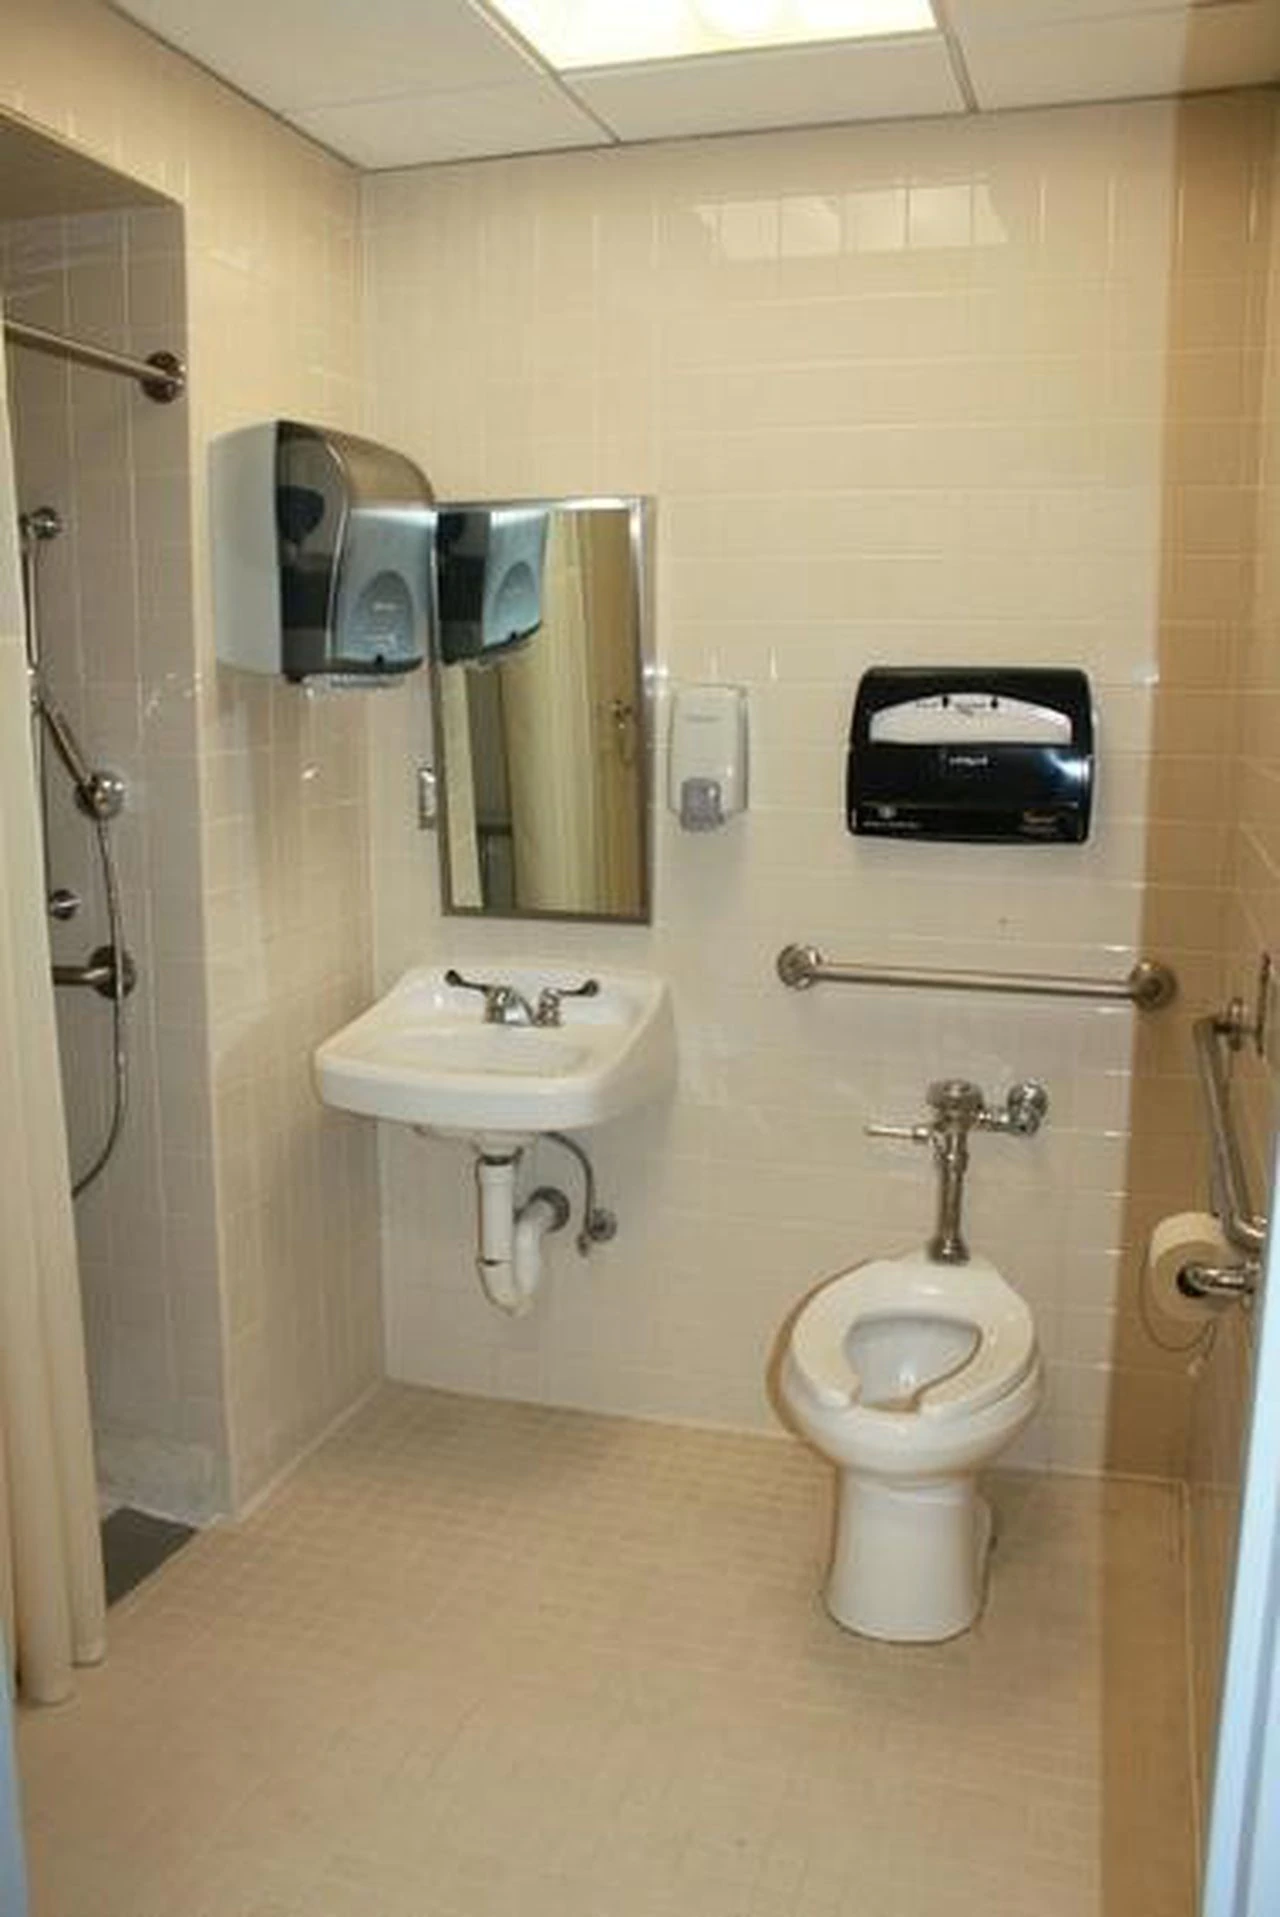curtain: (4, 361, 110, 1724)
dispenser: (206, 406, 446, 701), (844, 664, 1100, 847), (663, 681, 753, 831)
faucet: (439, 961, 611, 1028)
restroom_assist_bar: (777, 941, 1186, 1011), (1191, 1001, 1280, 1270), (34, 946, 159, 1001)
sink: (311, 958, 681, 1133)
toilet: (777, 1246, 1046, 1648)
toilet_handle: (866, 1078, 967, 1144)
